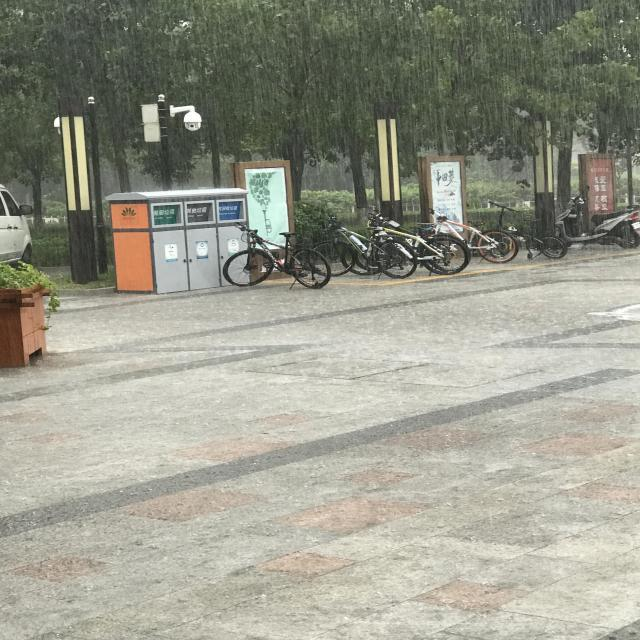car: (174, 600, 272, 640)
